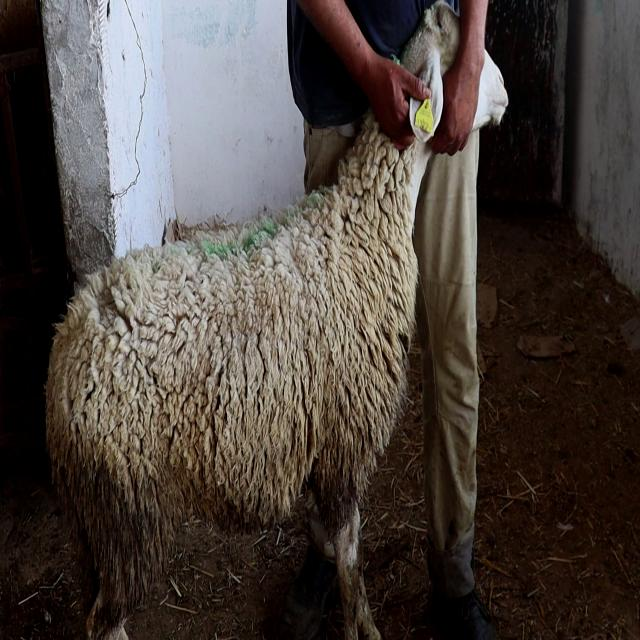Score_3: (46, 2, 459, 639)
